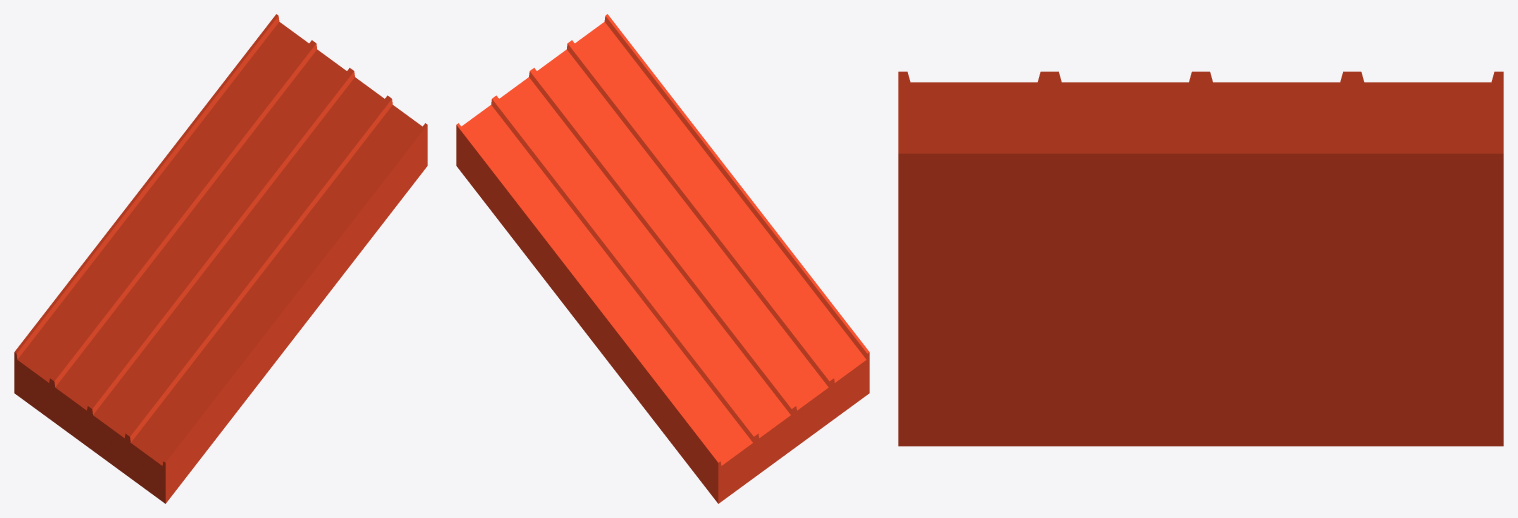
Rendered from roof-metal-regular-2x2m.fbx.
3 renders of one model, left to right at view 1: azimuth 30°, elevation 25°; view 2: azimuth 150°, elevation 25°; view 3: azimuth 270°, elevation 25°, orthographic. The views are drawn at different scales.
Visible parts, largest first — view 1: roof-metal-regular-2x2m; view 2: roof-metal-regular-2x2m; view 3: roof-metal-regular-2x2m.
Part boxes in pixels (left/top/right/bottom): roof-metal-regular-2x2m: left=14, top=14, right=427, bottom=503; roof-metal-regular-2x2m: left=456, top=14, right=869, bottom=503; roof-metal-regular-2x2m: left=898, top=71, right=1503, bottom=446.
Size of the model in its own units: 2 by 2.3 by 2.
